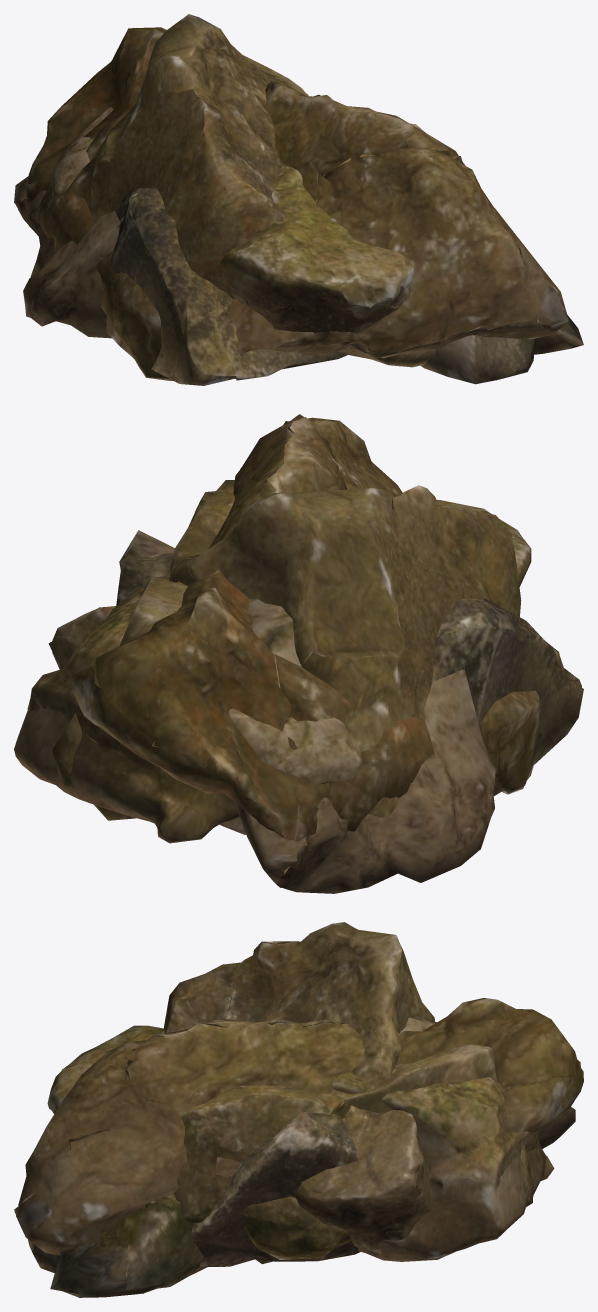
The model's file is rock_moss_set_01_LOD1.fbx.
3 views of the same model, one above another, from view 1: azimuth 30°, elevation 25°; view 2: azimuth 150°, elevation 25°; view 3: azimuth 270°, elevation 25° (orthographic). The views are drawn at different scales.
Visible parts, largest first — view 1: rock_moss_set_01_rock01.002, rock_moss_set_01_rock04.002, rock_moss_set_01_rock05.002, rock_moss_set_01_rock03.002, rock_moss_set_01_rock02.002, rock_moss_set_01_rock06.002; view 2: rock_moss_set_01_rock01.002, rock_moss_set_01_rock04.002, rock_moss_set_01_rock02.002, rock_moss_set_01_rock05.002, rock_moss_set_01_rock03.002, rock_moss_set_01_rock06.002; view 3: rock_moss_set_01_rock01.002, rock_moss_set_01_rock04.002, rock_moss_set_01_rock05.002, rock_moss_set_01_rock06.002, rock_moss_set_01_rock02.002, rock_moss_set_01_rock03.002.
Part boxes in pixels (box(x1,y1,x2,y2)): rock_moss_set_01_rock01.002: box(26, 27, 568, 380); rock_moss_set_01_rock04.002: box(54, 14, 320, 299); rock_moss_set_01_rock05.002: box(52, 93, 415, 356); rock_moss_set_01_rock03.002: box(106, 123, 425, 385); rock_moss_set_01_rock02.002: box(14, 110, 583, 384); rock_moss_set_01_rock06.002: box(243, 55, 435, 367); rock_moss_set_01_rock01.002: box(67, 414, 539, 850); rock_moss_set_01_rock04.002: box(48, 485, 521, 818); rock_moss_set_01_rock02.002: box(234, 551, 495, 893); rock_moss_set_01_rock05.002: box(14, 499, 531, 843); rock_moss_set_01_rock03.002: box(116, 530, 583, 834); rock_moss_set_01_rock06.002: box(52, 480, 499, 820); rock_moss_set_01_rock01.002: box(14, 998, 583, 1264); rock_moss_set_01_rock04.002: box(163, 922, 434, 1253); rock_moss_set_01_rock05.002: box(47, 1025, 554, 1261); rock_moss_set_01_rock06.002: box(92, 1044, 533, 1259); rock_moss_set_01_rock02.002: box(28, 1016, 575, 1297); rock_moss_set_01_rock03.002: box(190, 1111, 359, 1267).
Size of the model in its own units: 2.66 by 1.77 by 3.38.
1 material, 1 textured.
